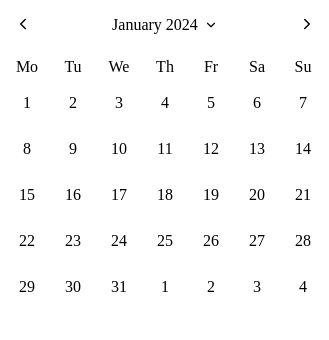
Test: Calendar › year / month views › opens the year grid when the header label is clicked
Click the button with aria-label "Choose year, currently January 2024". click: (165, 25)
box: x1=112 y1=16 x2=218 y2=34
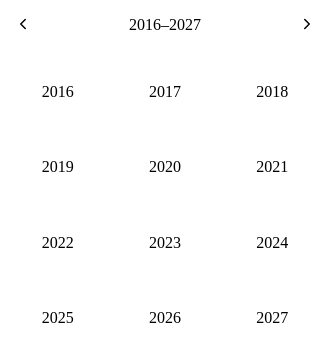
Check: the text "2016–2027" is shown, box x1=129 y1=16 x2=201 y2=34
Check: the text "Mo" is gone
